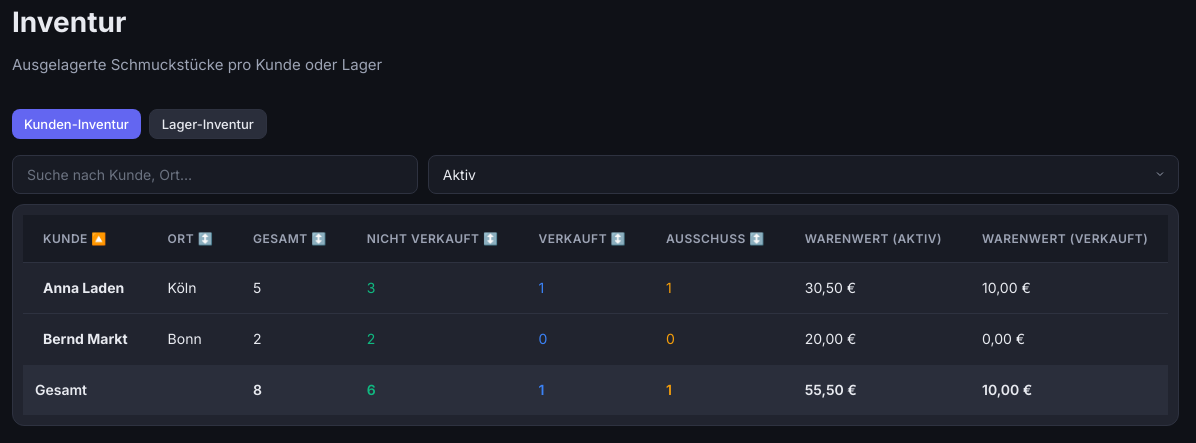
Kunden-Inventur (Abgleich) › meldet, wenn die Suche nichts findet
This screenshot has width=1196, height=443.
Check: the text "Anna Laden" is shown, box [43,279,124,296]
Type "zzz" into the field with placeholder "Suche nach Kunde, Ort…" at (215, 174), box [12,155,418,194]
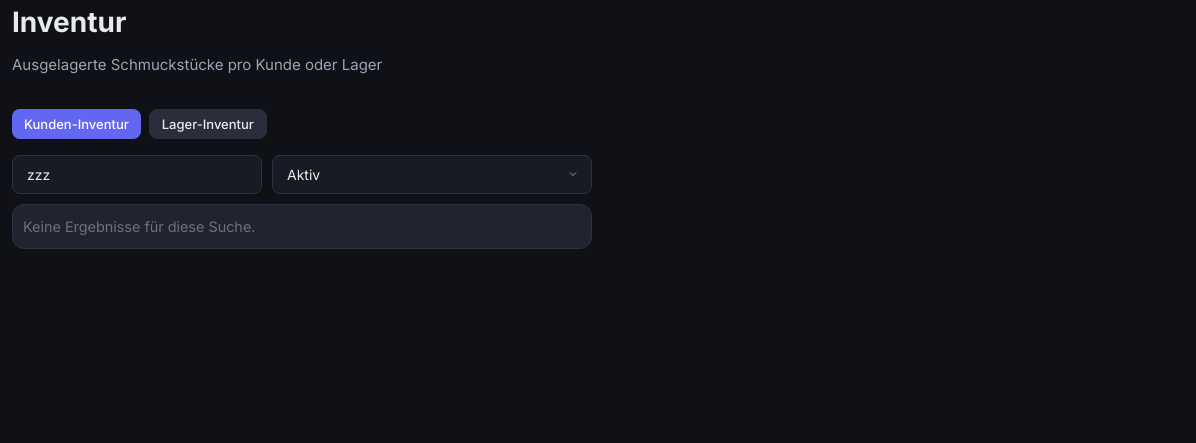
Check: the text "Keine Ergebnisse für diese Suche." is shown, box [23,218,255,235]
